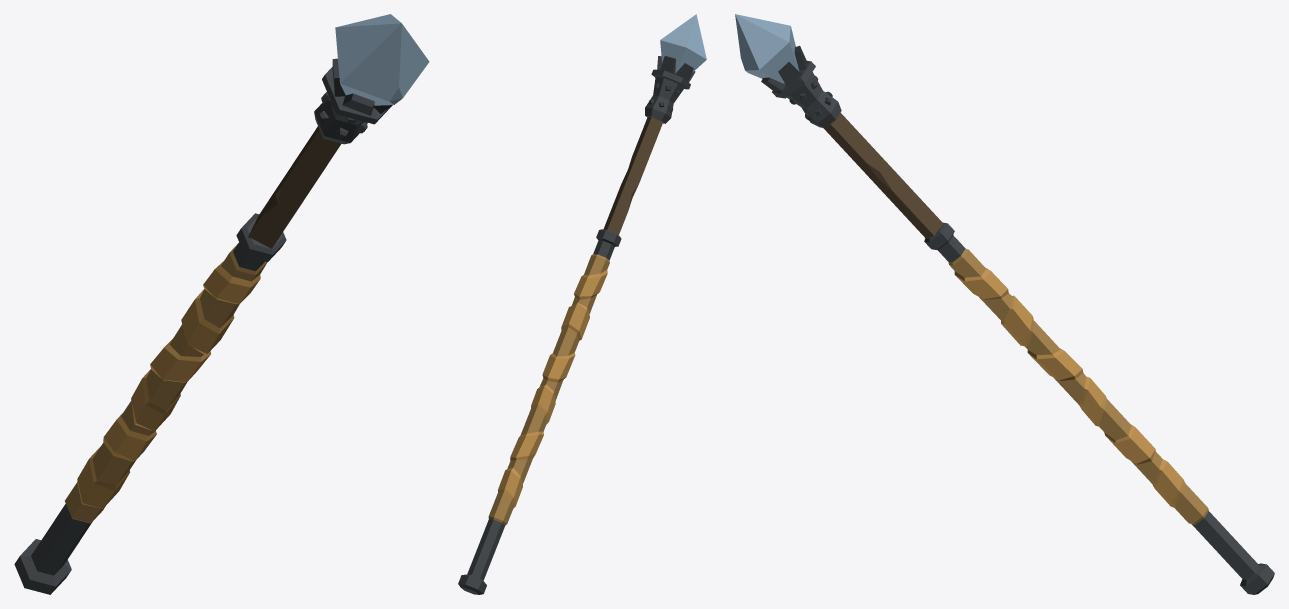
The model's file is fk-staff-14.glb.
The picture shows the model from 3 angles, left to right: view 1: azimuth 30°, elevation 25°; view 2: azimuth 150°, elevation 25°; view 3: azimuth 270°, elevation 25°; orthographic projection. The views are drawn at different scales.
Parts seen in each view (by area): view 1: fk-staff-14; view 2: fk-staff-14; view 3: fk-staff-14.
Boxes of the visible parts, bbox=[...] form: fk-staff-14: bbox=[14, 14, 429, 594]; fk-staff-14: bbox=[458, 14, 706, 594]; fk-staff-14: bbox=[735, 14, 1274, 594].
Bounding box in the file's own units: 0.1414 × 1.12 × 0.9685.
Materials: 1 (1 with a texture image).
